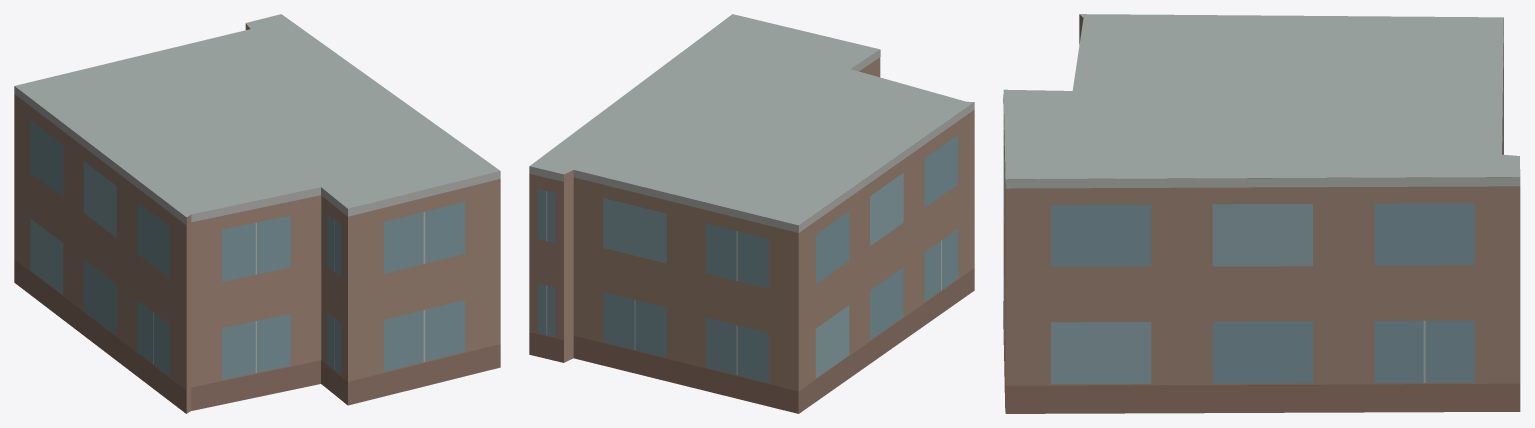
Rendered from survey-upis-32685545.glb.
3 views of the same model, side by side, from view 1: azimuth 30°, elevation 25°; view 2: azimuth 150°, elevation 25°; view 3: azimuth 270°, elevation 25° (orthographic). The views are drawn at different scales.
Parts seen in each view (by area): view 1: survey-upis-32685545.tmp; view 2: survey-upis-32685545.tmp; view 3: survey-upis-32685545.tmp.
Boxes of the visible parts, x1=… form: survey-upis-32685545.tmp: x1=14, y1=14, x2=500, y2=413; survey-upis-32685545.tmp: x1=529, y1=14, x2=974, y2=413; survey-upis-32685545.tmp: x1=1003, y1=14, x2=1520, y2=413.
Size of the model in its own units: 9.21 by 6.1 by 12.18.
